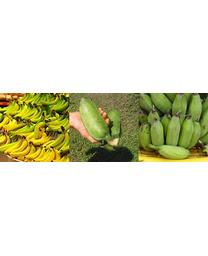banana: (2, 94, 68, 162), (139, 93, 207, 157), (80, 99, 124, 147)
